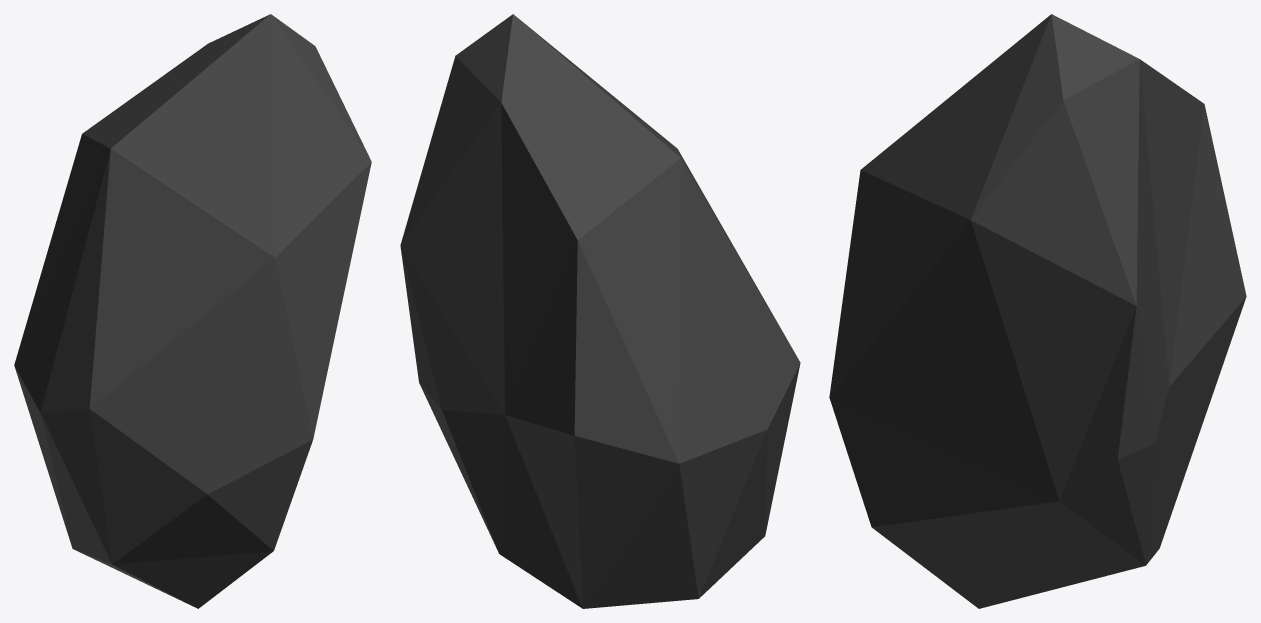
Rendered from Sea_Rock7.fbx.
The picture shows the model from 3 angles, left to right: view 1: azimuth 30°, elevation 25°; view 2: azimuth 150°, elevation 25°; view 3: azimuth 270°, elevation 25°; orthographic projection. The views are drawn at different scales.
Parts seen in each view (by area): view 1: Icosphere.007; view 2: Icosphere.007; view 3: Icosphere.007.
Boxes of the visible parts, x1,y1,x2,y2 form: Icosphere.007: (14, 14, 371, 608); Icosphere.007: (400, 14, 800, 608); Icosphere.007: (829, 14, 1246, 608).
Bounding box in the file's own units: 519 × 887 × 512.
